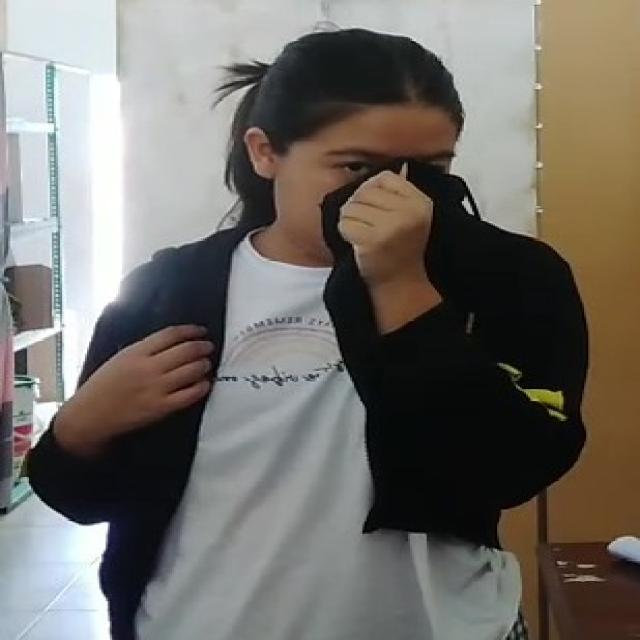8_ropa_rostro: (319, 154, 500, 302)
